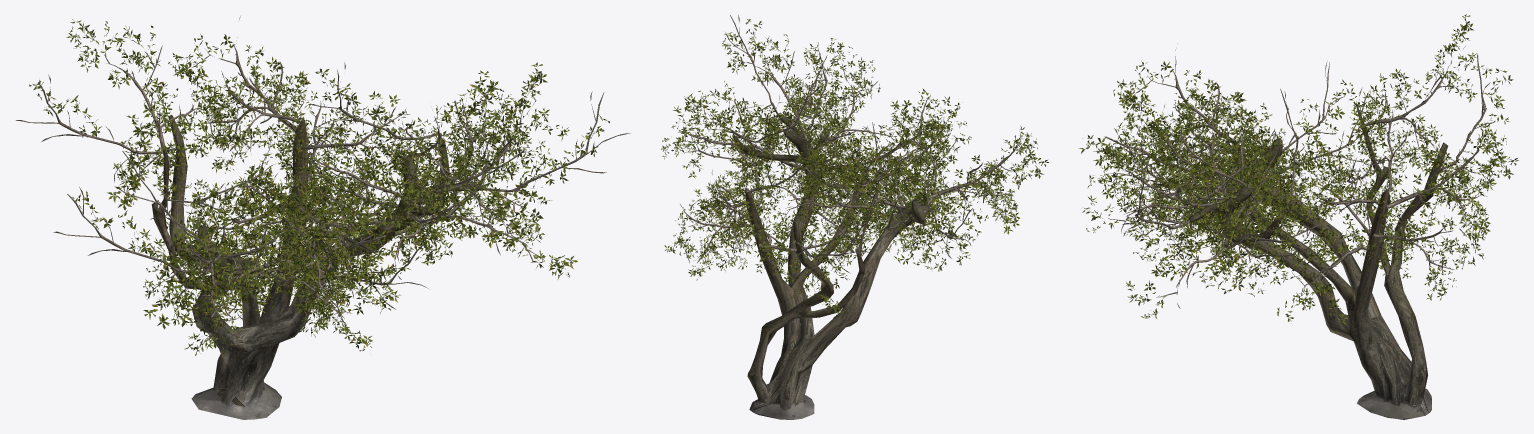
Rendered from island_tree_02-near.gltf.
3 renders of one model, left to right at view 1: azimuth 30°, elevation 25°; view 2: azimuth 150°, elevation 25°; view 3: azimuth 270°, elevation 25°, orthographic. The views are drawn at different scales.
Parts seen in each view (by area): view 1: island_tree_02_LOD0; view 2: island_tree_02_LOD0; view 3: island_tree_02_LOD0.
Boxes of the visible parts, left/top/right/bottom form: island_tree_02_LOD0: left=16, top=16, right=630, bottom=419; island_tree_02_LOD0: left=661, top=15, right=1048, bottom=419; island_tree_02_LOD0: left=1078, top=14, right=1518, bottom=419.
Size of the model in its own units: 4.21 by 3.41 by 4.07.
Materials: 3 (3 with a texture image).
